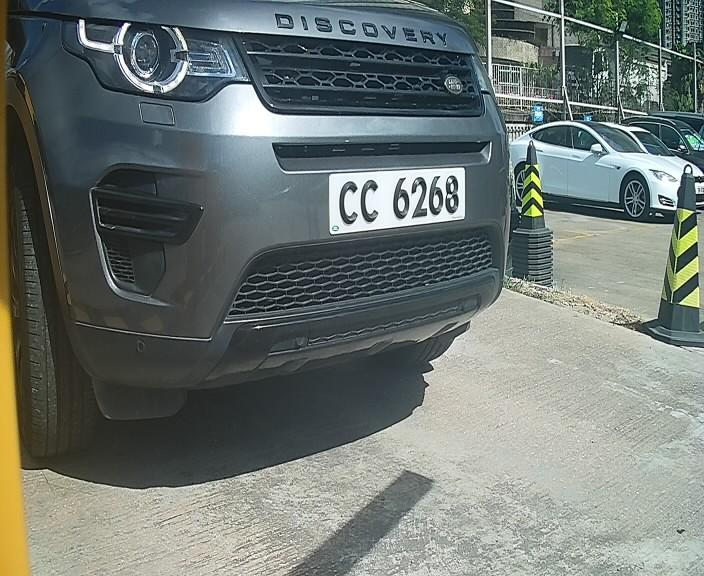Car: (7, 6, 573, 443)
License Plate: (315, 155, 475, 242)
